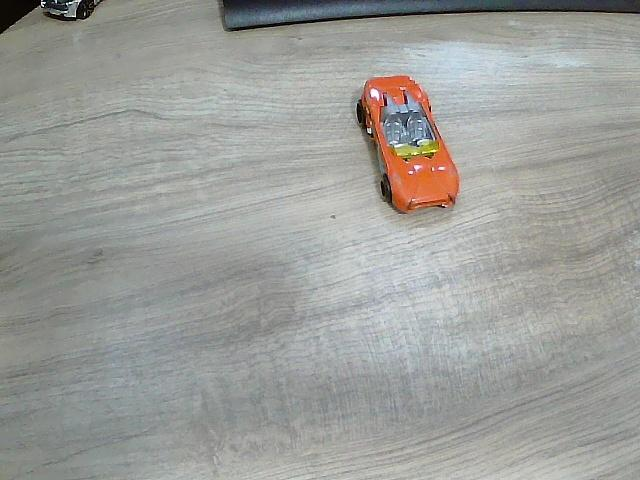Carro: (357, 76, 460, 215)
